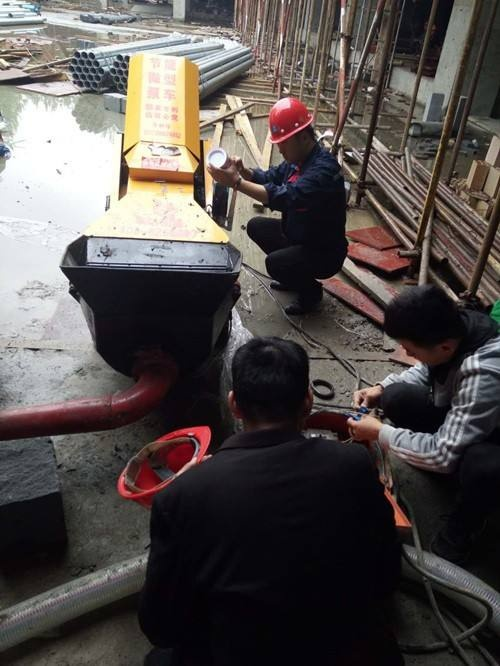none: (227, 334, 315, 444), (382, 280, 464, 368)
red: (264, 95, 315, 163)
